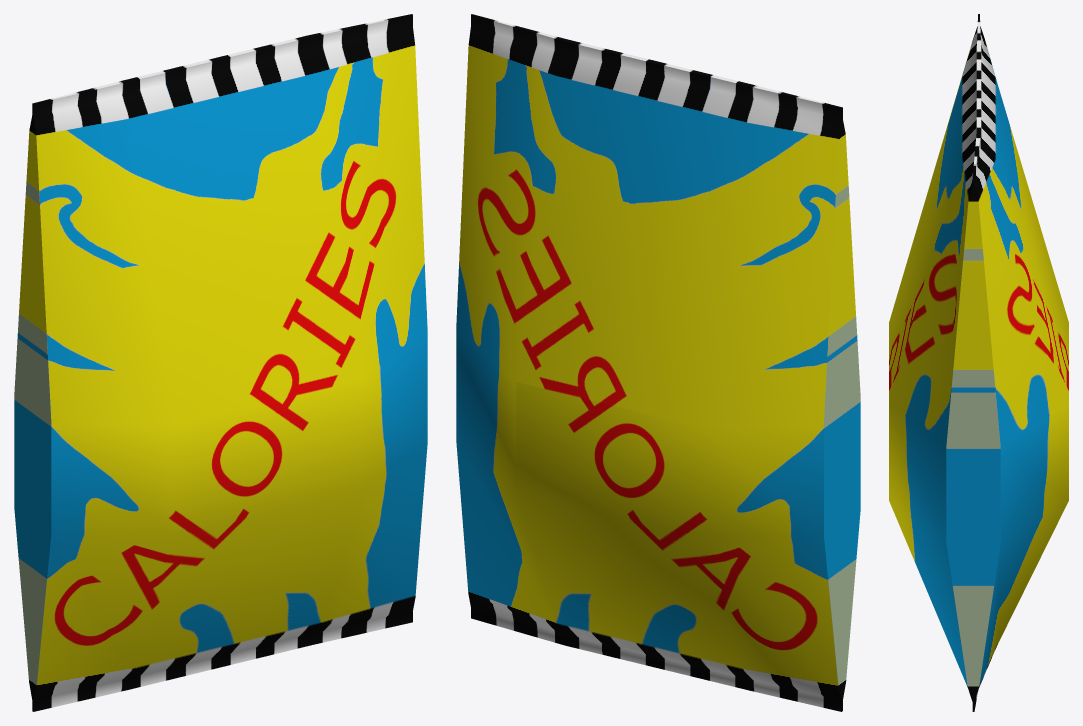
The model's file is Chips.fbx.
3 renders of one model, left to right at view 1: azimuth 30°, elevation 25°; view 2: azimuth 150°, elevation 25°; view 3: azimuth 270°, elevation 25°, orthographic. The views are drawn at different scales.
Visible parts, largest first — view 1: pCube1; view 2: pCube1; view 3: pCube1.
Part boxes in pixels (<box>): pCube1: <box>14,14,427,711</box>; pCube1: <box>456,14,860,711</box>; pCube1: <box>889,14,1068,711</box>.
Bounding box in the file's own units: 1.71 × 2.64 × 0.8029.
